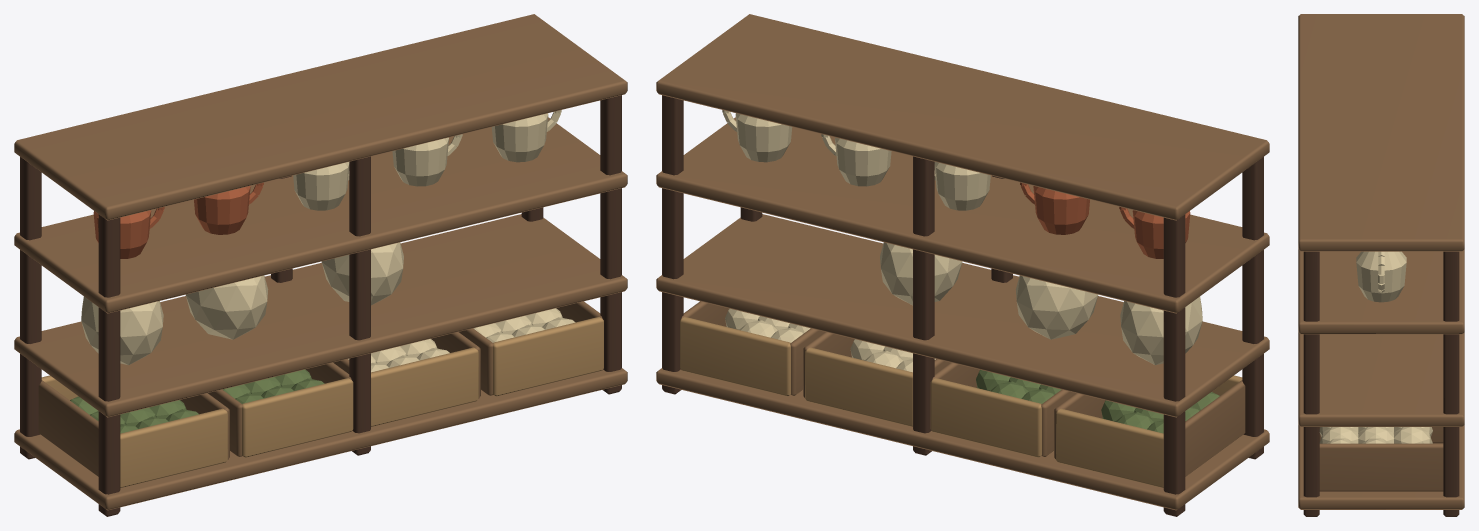
File: feast_pantry.glb
The picture shows the model from 3 angles, left to right: view 1: azimuth 30°, elevation 25°; view 2: azimuth 150°, elevation 25°; view 3: azimuth 270°, elevation 25°; orthographic projection. The views are drawn at different scales.
Parts seen in each view (by area): view 1: feast_pantry; view 2: feast_pantry; view 3: feast_pantry.
Part boxes in pixels (box(x1,y1,x2,y2)): feast_pantry: box(14, 14, 627, 516); feast_pantry: box(656, 14, 1269, 516); feast_pantry: box(1298, 14, 1464, 516).
Size of the model in its own units: 5 by 2.86 by 1.55.
